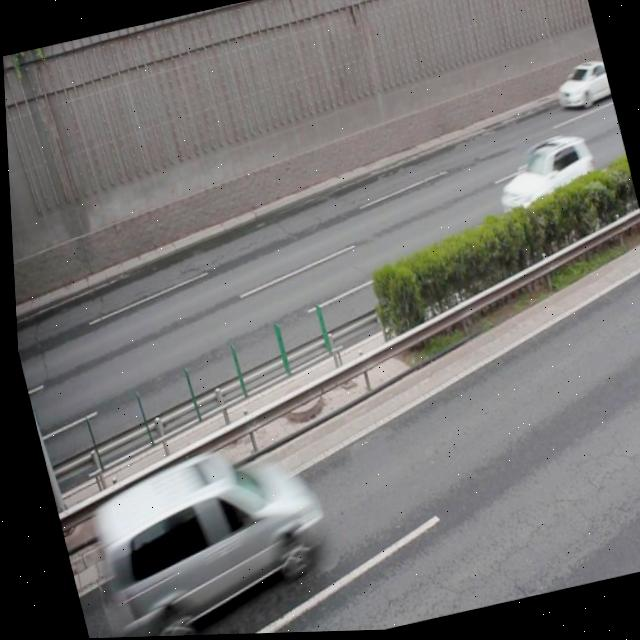car: (485, 132, 604, 238), (548, 60, 612, 116)
truck: (64, 430, 334, 639)
